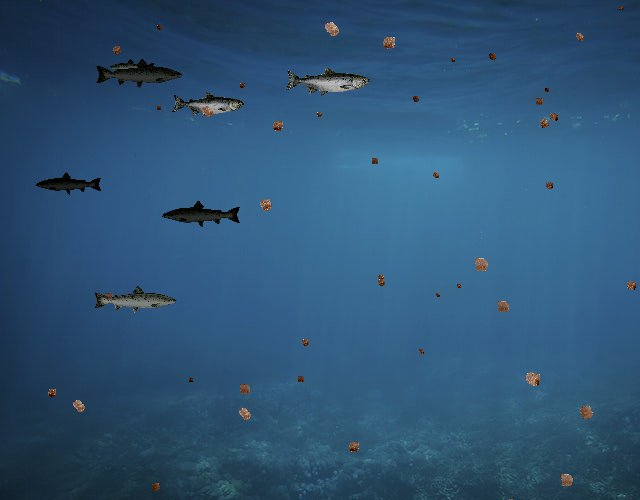Fish: (94, 58, 184, 90), (92, 284, 178, 315), (284, 66, 370, 97), (162, 200, 243, 229), (172, 91, 245, 117), (35, 172, 103, 196), (110, 59, 157, 76)
Pellet: (316, 14, 346, 44), (467, 251, 495, 279), (491, 294, 515, 318), (195, 100, 219, 124), (534, 113, 554, 133), (454, 280, 464, 290)
